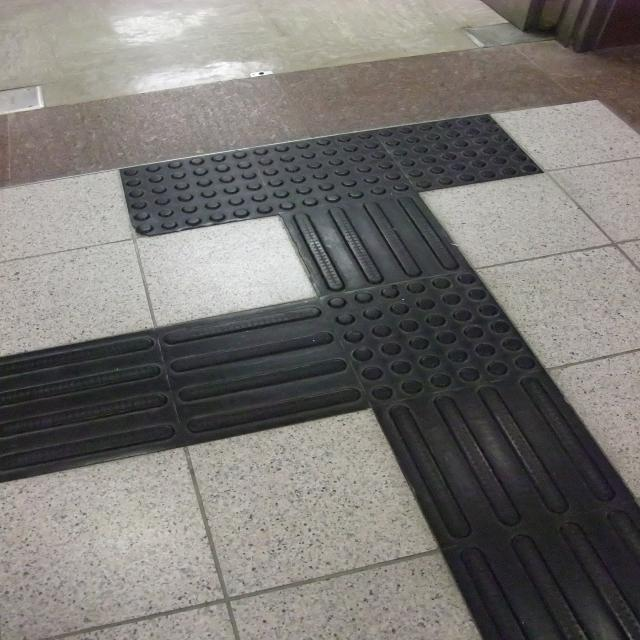tactile-guide-path: (0, 299, 378, 484), (376, 376, 640, 640), (116, 110, 548, 238), (318, 266, 556, 404), (280, 192, 472, 298)
